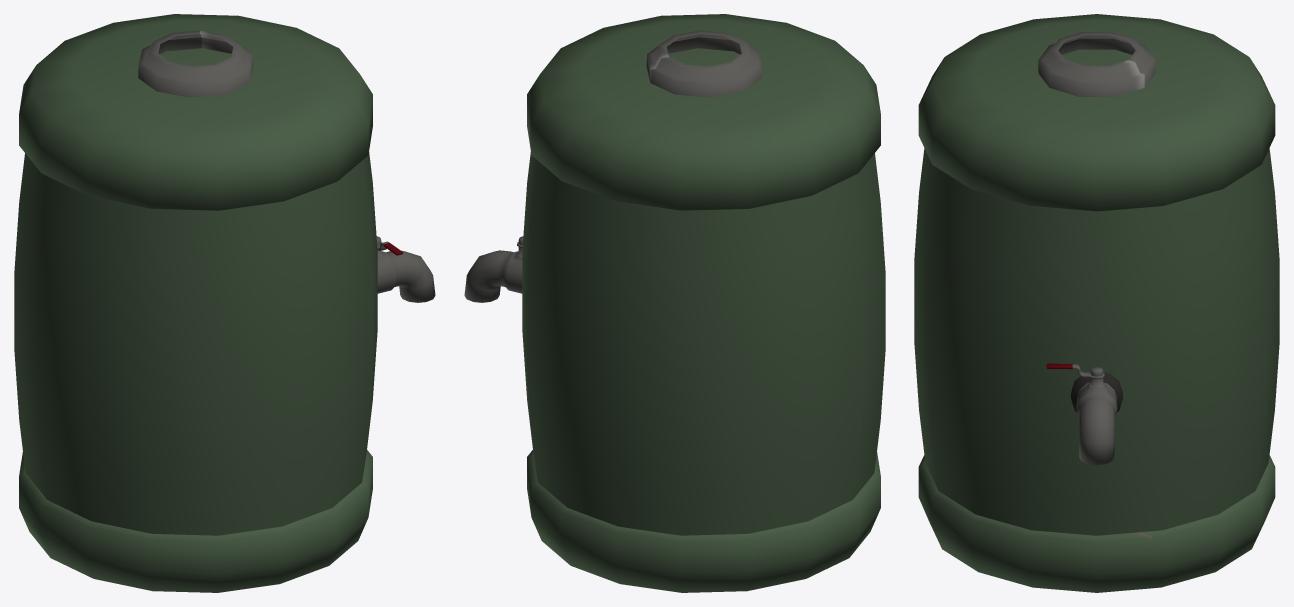
The model's file is SM_SmallWaterTank.fbx.
3 views of the same model, side by side, from view 1: azimuth 30°, elevation 25°; view 2: azimuth 150°, elevation 25°; view 3: azimuth 270°, elevation 25° (orthographic).
Visible parts, largest first — view 1: SmallWaterTank; view 2: SmallWaterTank; view 3: SmallWaterTank.
Boxes of the visible parts, box(x1,y1,x2,y2) form: SmallWaterTank: box(14, 14, 435, 592); SmallWaterTank: box(464, 14, 885, 592); SmallWaterTank: box(914, 14, 1279, 592).
Bounding box in the file's own units: 158 × 180 × 126.
